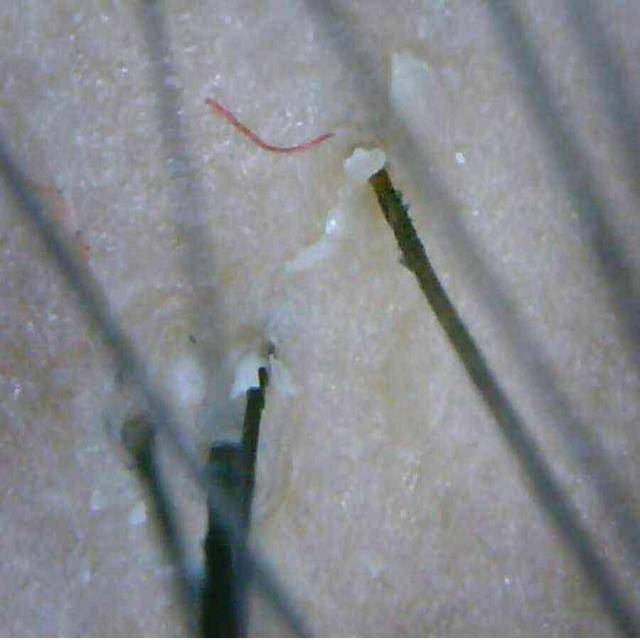d: (390, 52, 431, 129), (285, 235, 331, 276), (229, 351, 265, 400), (344, 147, 386, 183)
